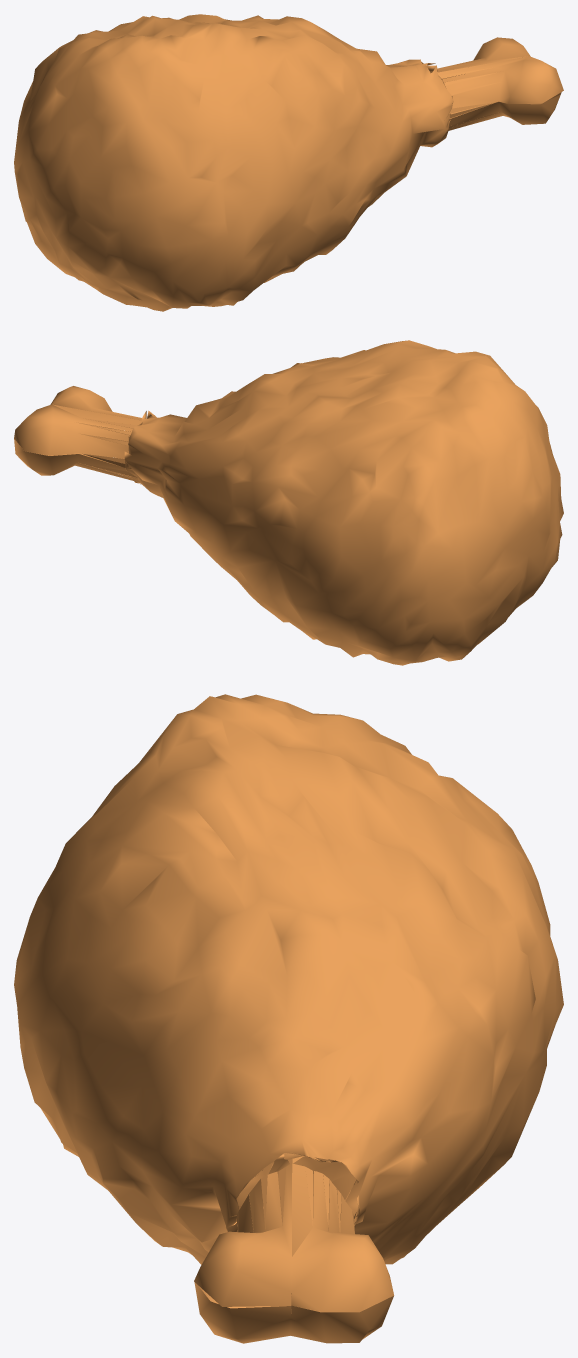
Rendered from zhajitui.fbx.
3 renders of one model, top to bottom at view 1: azimuth 30°, elevation 25°; view 2: azimuth 150°, elevation 25°; view 3: azimuth 270°, elevation 25°, orthographic. The views are drawn at different scales.
Parts seen in each view (by area): view 1: Cylinder047; view 2: Cylinder047; view 3: Cylinder047.
Part boxes in pixels (x1,y1,x2,y2): Cylinder047: [14, 14, 563, 311]; Cylinder047: [14, 340, 563, 665]; Cylinder047: [14, 694, 563, 1343].
Bounding box in the file's own units: 226 × 121 × 125.
